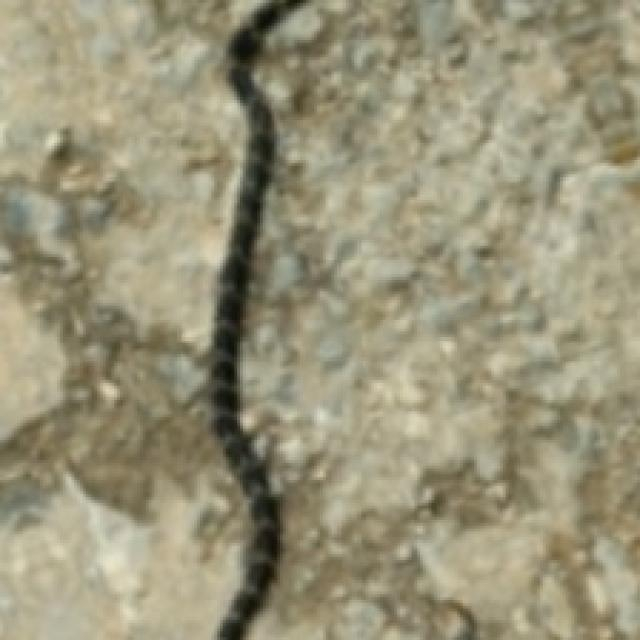king cobra: (210, 0, 304, 639)
